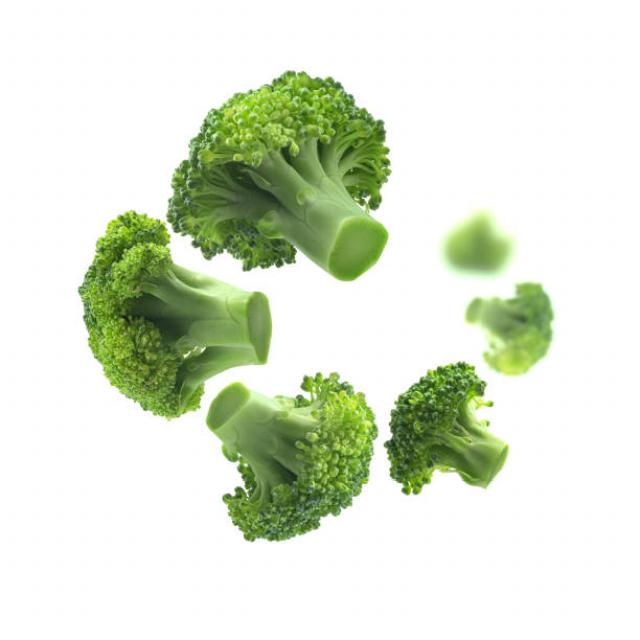broccoli: (169, 82, 428, 259), (61, 220, 282, 410), (380, 356, 542, 526), (217, 374, 371, 542), (464, 294, 596, 360)
